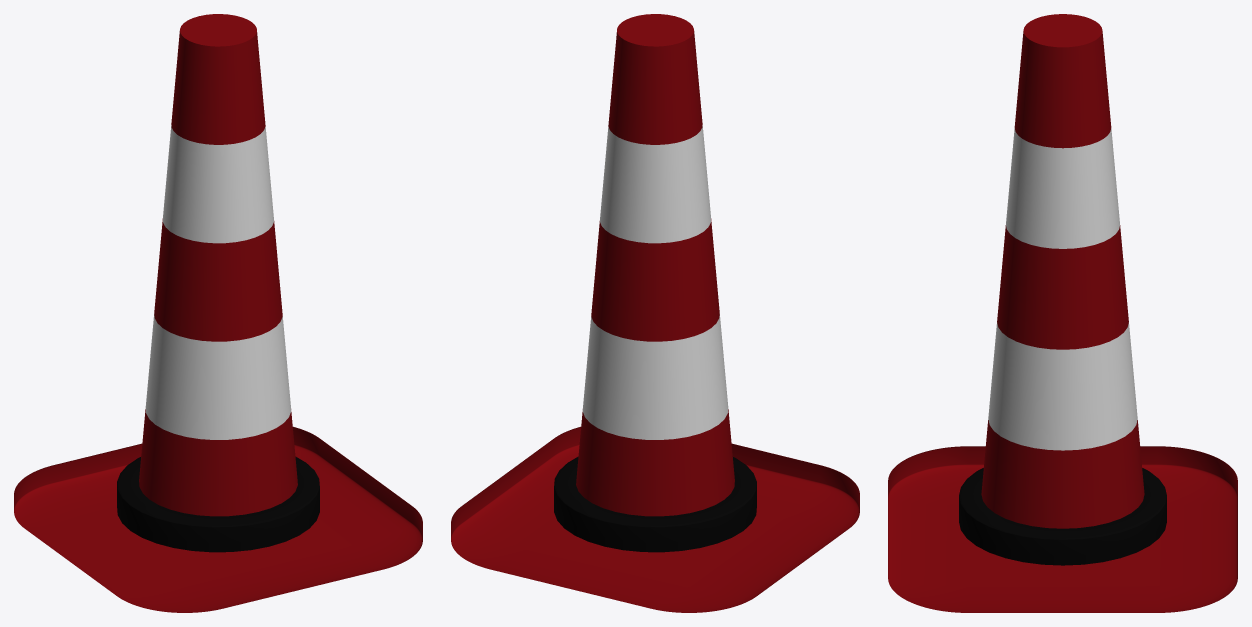
3 renders of one model, left to right at view 1: azimuth 30°, elevation 25°; view 2: azimuth 150°, elevation 25°; view 3: azimuth 270°, elevation 25°, orthographic. The views are drawn at different scales.
Parts seen in each view (by area): view 1: Cylinder; view 2: Cylinder; view 3: Cylinder.
Part boxes in pixels (bbox=[...]): Cylinder: bbox=[14, 14, 422, 612]; Cylinder: bbox=[451, 14, 859, 612]; Cylinder: bbox=[888, 14, 1237, 612].
Size of the model in its own units: 34.1 by 55.39 by 34.1.
